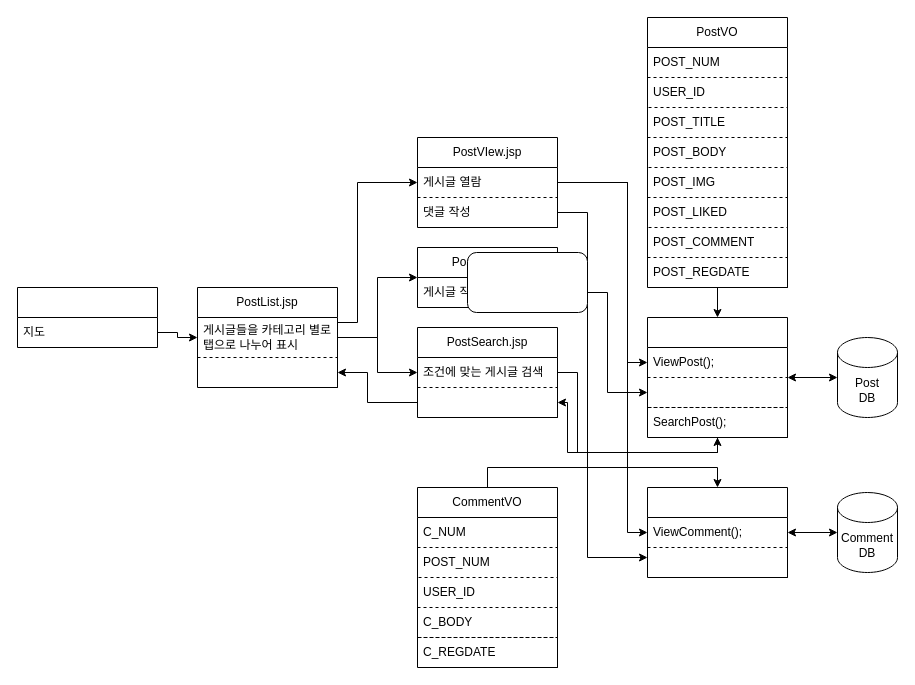
The diagram is 915 pixels wide and 685 high, and some of its shapes have lost their labels. The shapes that lost their labels are listed below. From the top down, each one's box as (x1, y1, x2, y2) in pixels, then its label:
(466, 252, 588, 312): Controller
(16, 286, 158, 348): Home.jsp
(196, 356, 338, 388): 검색 결과를 표시
(646, 316, 788, 438): PostDAO
(646, 376, 788, 408): WritePost();
(416, 386, 558, 418): 검색 결과를 반환
(646, 486, 788, 578): CommentDAO
(646, 546, 788, 578): WriteComment();
